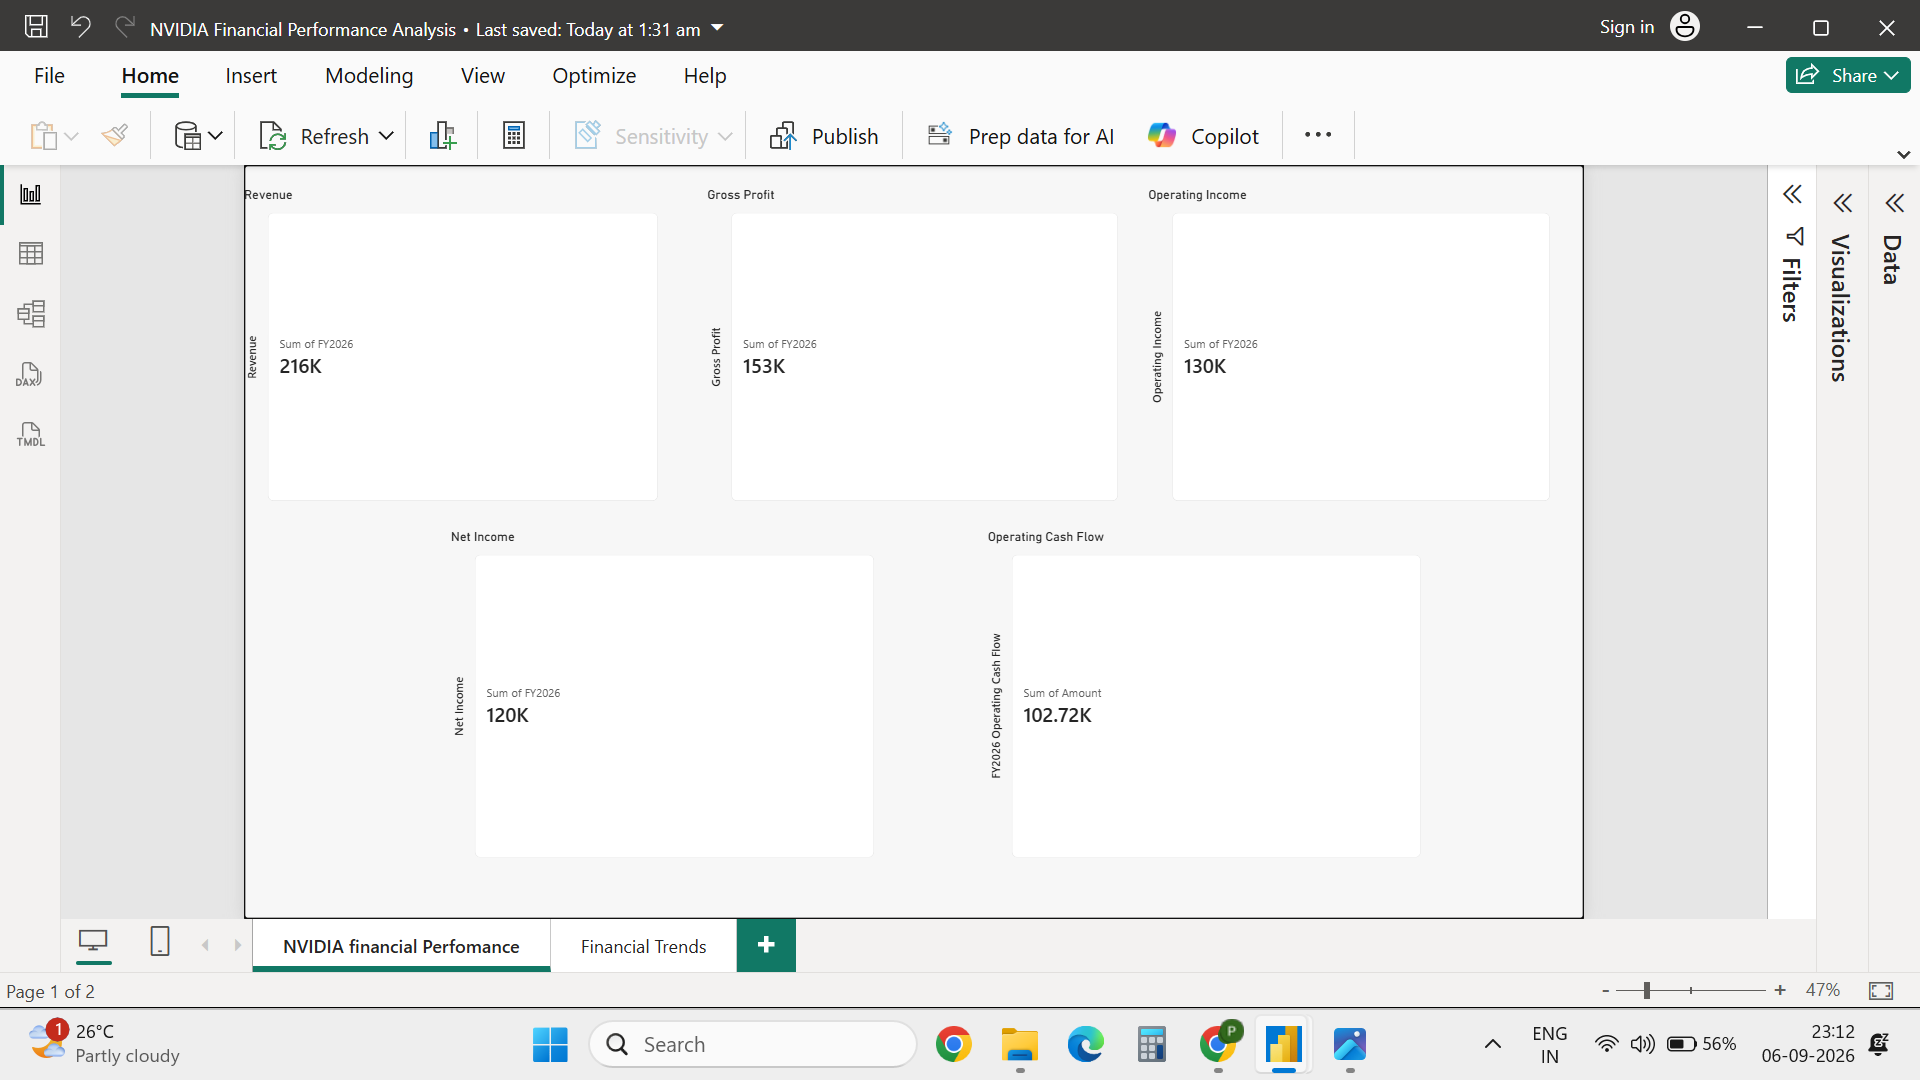

The page's visual inventory and layout, read from the dashboard file:
{"tool":"powerbi","page":{"name":"NVIDIA financial Perfomance ","canvas":[1920,1080],"ordinal":0},"visuals":[{"type":"cardVisual","title":"Operating Cash Flow ","fields":{"Data":["Sum(Cash Flow Analysis.Amount)"],"Rows":["Cash Flow Analysis.Year","Cash Flow Analysis.Particular                         "]},"box":[1066.5,498.7,620.3,470],"z":4},{"type":"cardVisual","title":"Revenue","fields":{"Data":["Sum(Income Analysis (2).FY2026)"],"Rows":["Income Analysis (2).Particular"]},"box":[0,0,592.4,481.9],"z":5},{"type":"cardVisual","fields":{"Data":["Sum(Income Analysis (2).FY2026)"],"Rows":["Income Analysis (2).Particular"]},"box":[663.3,0,589.6,481.9],"z":6},{"type":"cardVisual","fields":{"Data":["Sum(Income Analysis (2).FY2026)"],"Rows":["Income Analysis (2).Particular"]},"box":[1295.4,0,575.4,481.9],"z":7},{"type":"cardVisual","fields":{"Data":["Sum(Income Analysis (2).FY2026)"],"Rows":["Income Analysis (2).Particular"]},"box":[295.9,522.5,606.6,470.6],"z":8}]}

Visuals, with their boxes on the page's 1920x1080 design canvas (x1, y1, x2, y2). These are canvas units, not pixel positions in the 1920x1080 screenshot, which may show the page scaled, cropped or inside an application window:
"Operating Cash Flow " cardVisual: <bbox>1066, 499, 1687, 969</bbox>
"Revenue" cardVisual: <bbox>0, 0, 592, 482</bbox>
cardVisual - Sum(Income Analysis (2).FY2026) x Income Analysis (2).Particular: <bbox>663, 0, 1253, 482</bbox>
cardVisual - Sum(Income Analysis (2).FY2026) x Income Analysis (2).Particular: <bbox>1295, 0, 1871, 482</bbox>
cardVisual - Sum(Income Analysis (2).FY2026) x Income Analysis (2).Particular: <bbox>296, 522, 902, 993</bbox>
